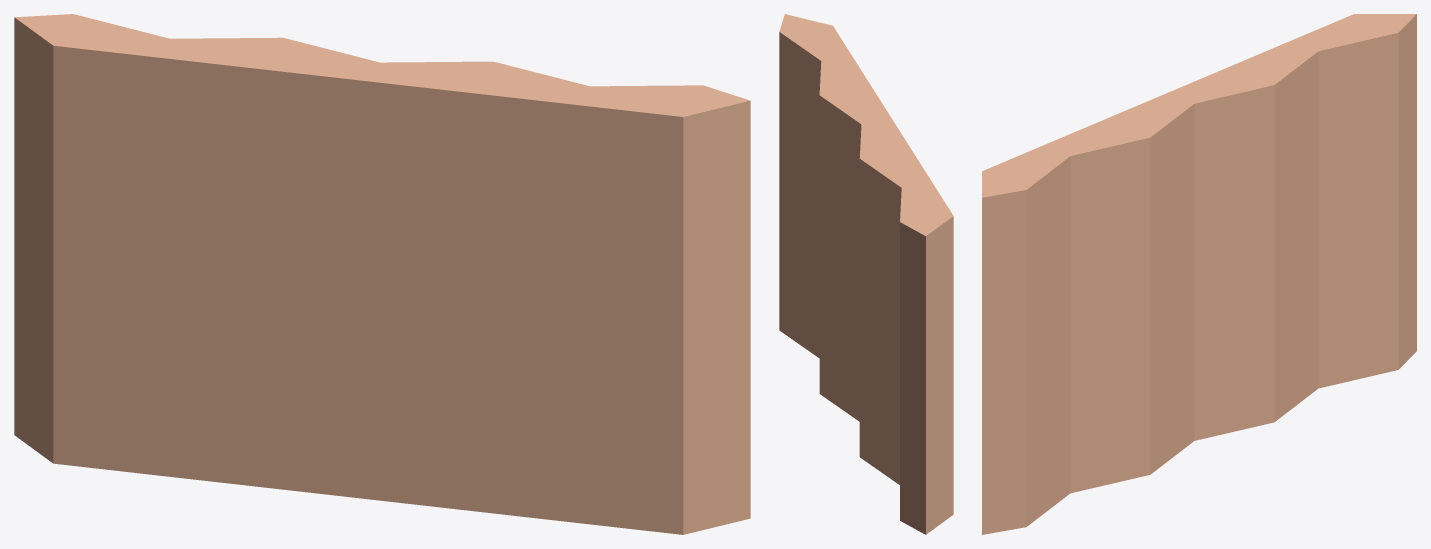
The model's file is cliff_diagonal_rock.glb.
3 views of the same model, side by side, from view 1: azimuth 30°, elevation 25°; view 2: azimuth 150°, elevation 25°; view 3: azimuth 270°, elevation 25° (orthographic). The views are drawn at different scales.
Visible parts, largest first — view 1: cliff_diagonal_rock; view 2: cliff_diagonal_rock; view 3: cliff_diagonal_rock.
Boxes of the visible parts, bbox=[...] form: cliff_diagonal_rock: bbox=[14, 14, 750, 534]; cliff_diagonal_rock: bbox=[779, 14, 953, 534]; cliff_diagonal_rock: bbox=[982, 14, 1416, 534].
Bounding box in the file's own units: 1.17 × 1 × 1.17.
